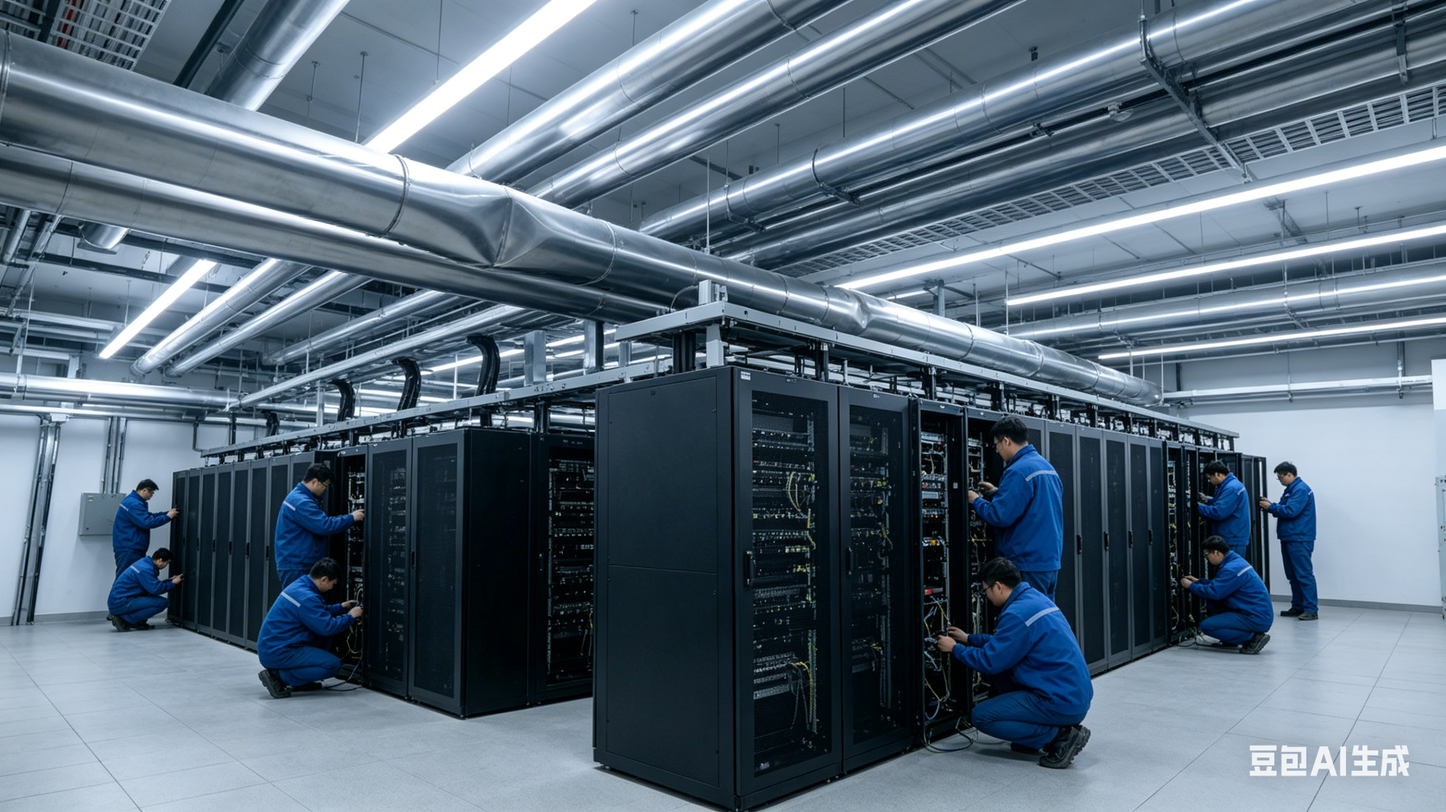Leakage: (459, 189, 546, 281)
